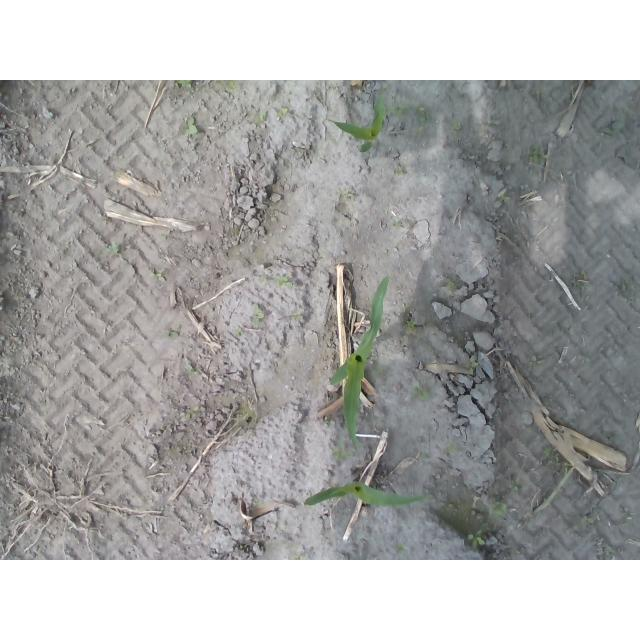Maize: (328, 275, 390, 450), (304, 480, 435, 513), (326, 97, 390, 148)
Weeds: (391, 104, 430, 120), (528, 144, 550, 164), (252, 304, 266, 329), (408, 384, 428, 401), (464, 532, 484, 548), (182, 117, 198, 137), (184, 362, 201, 378), (494, 188, 510, 205), (334, 447, 350, 462), (493, 500, 507, 517), (273, 275, 291, 288), (465, 355, 480, 370), (104, 242, 121, 255), (152, 270, 169, 282), (402, 319, 417, 332), (394, 542, 409, 555), (544, 445, 557, 458), (219, 80, 237, 89), (508, 482, 521, 494), (451, 119, 462, 133), (341, 189, 352, 201), (174, 80, 194, 86), (233, 325, 245, 335), (256, 114, 265, 123), (278, 108, 287, 117)
